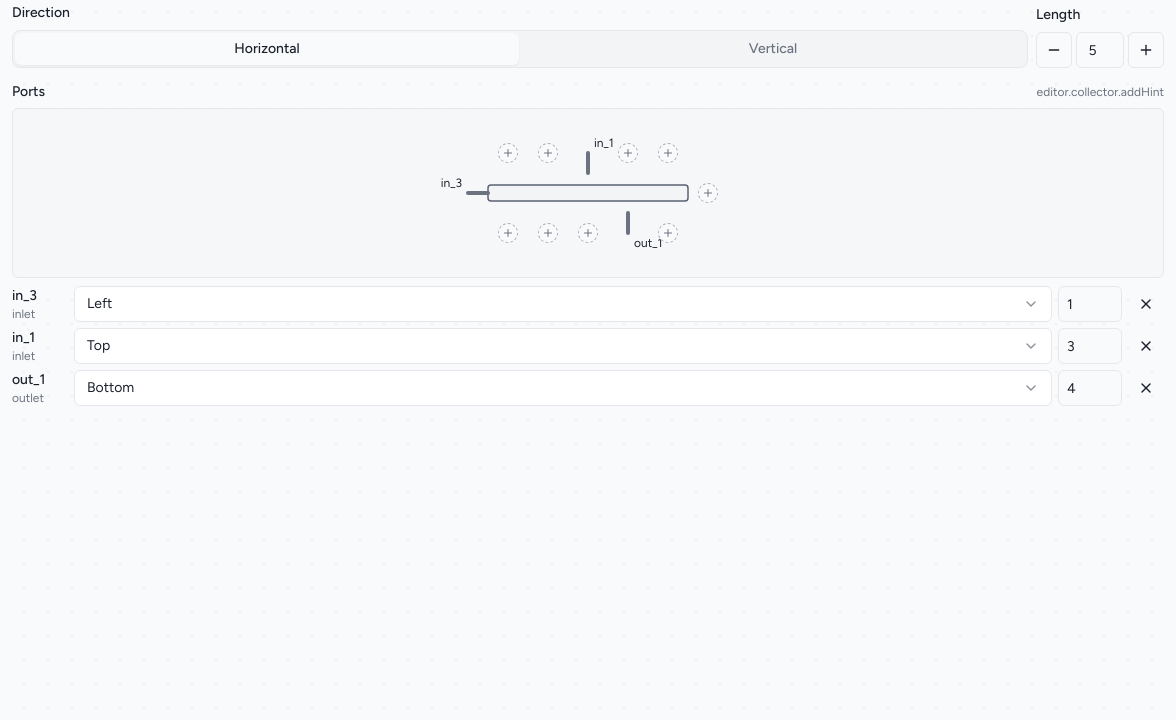
Scenario: CollectorEditor › offers no vertical face on a plate that opens flat
Click the dropdown named "Face of port in_1": click(99, 346) left=74, top=328, right=1052, bottom=364
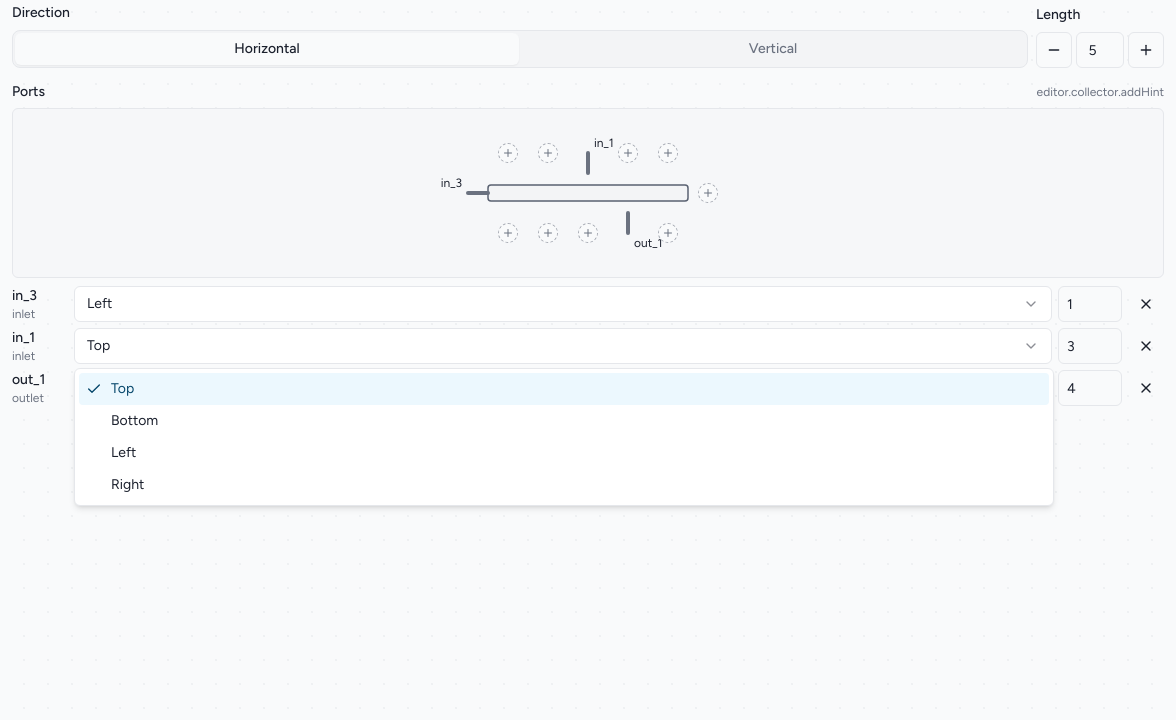
Result: the options read "Top", "Bottom", "Left", "Right", in this order at left=79, top=373, right=1049, bottom=405; left=111, top=412, right=158, bottom=429; left=111, top=444, right=136, bottom=461; left=111, top=476, right=144, bottom=493
